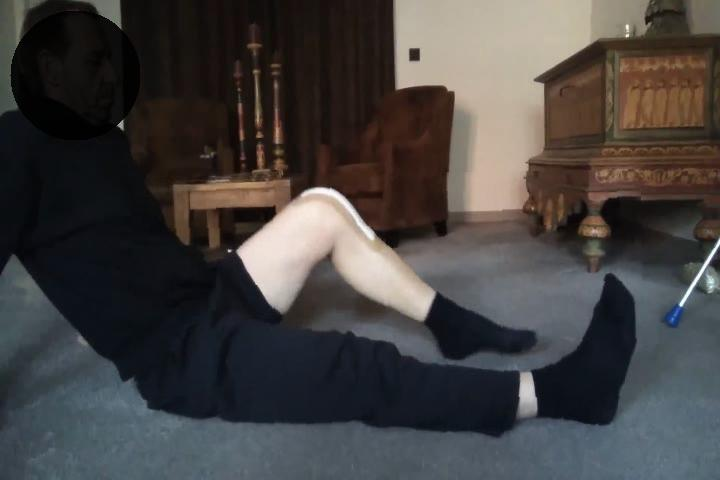lower_body: (133, 172, 645, 453)
